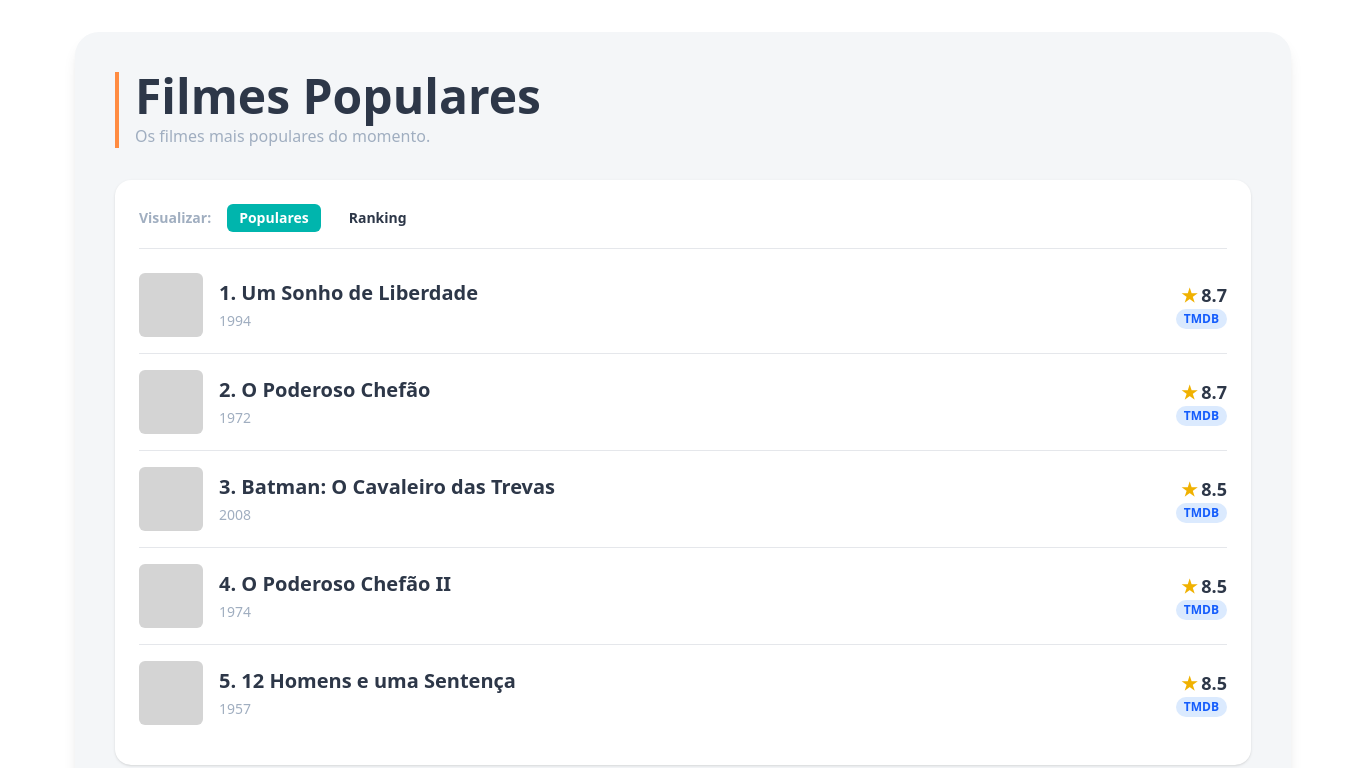
Test case: Página: MoviesListPage › deve reordenar a lista ao clicar nos botões de visualização
The width and height of the screenshot is (1366, 768).
Check: the heading "1. Um Sonho de Liberdade" is shown, box [219, 279, 478, 306]
Click the button "Ranking" at (378,218), box [337, 204, 419, 232]
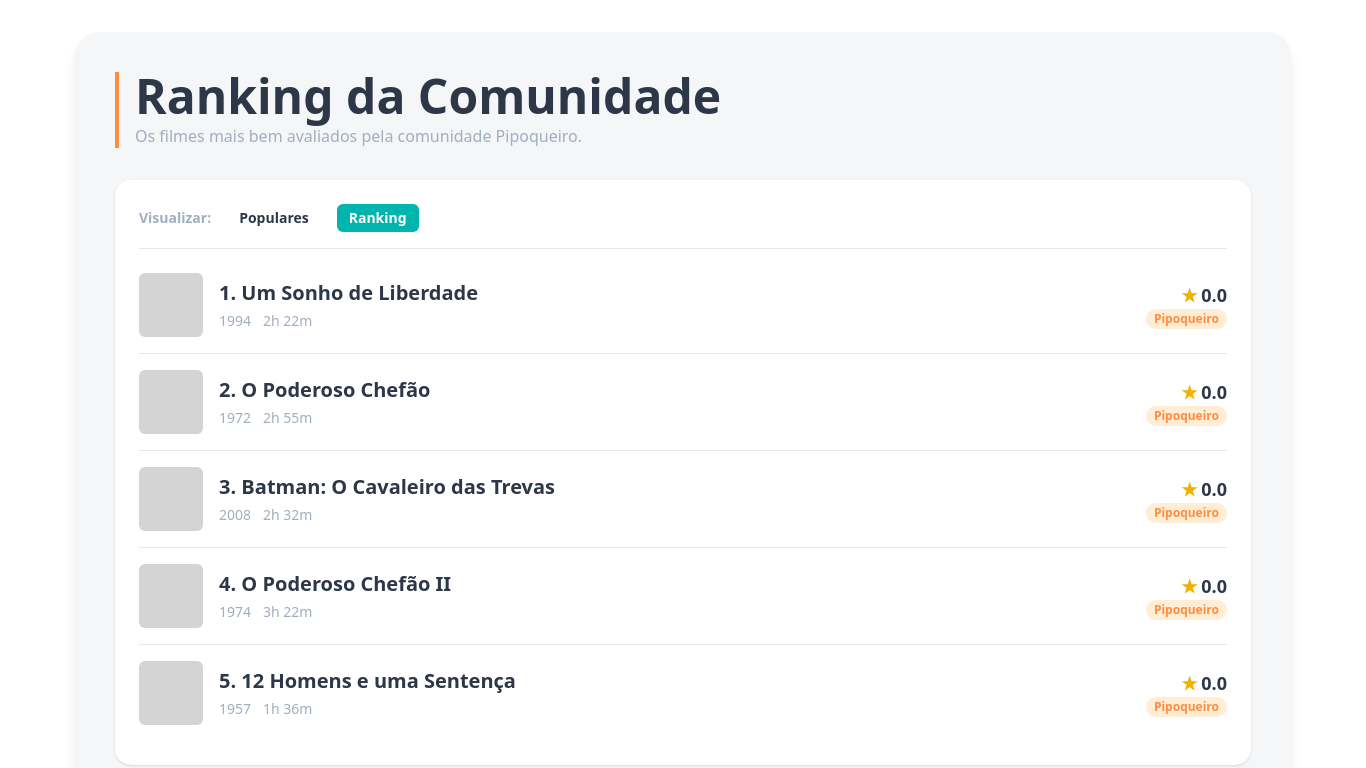
Check: the heading "1. Um Sonho de Liberdade" is shown, box [219, 279, 478, 306]
Check: the heading "Ranking da Comunidade" is shown, box [135, 63, 721, 128]
